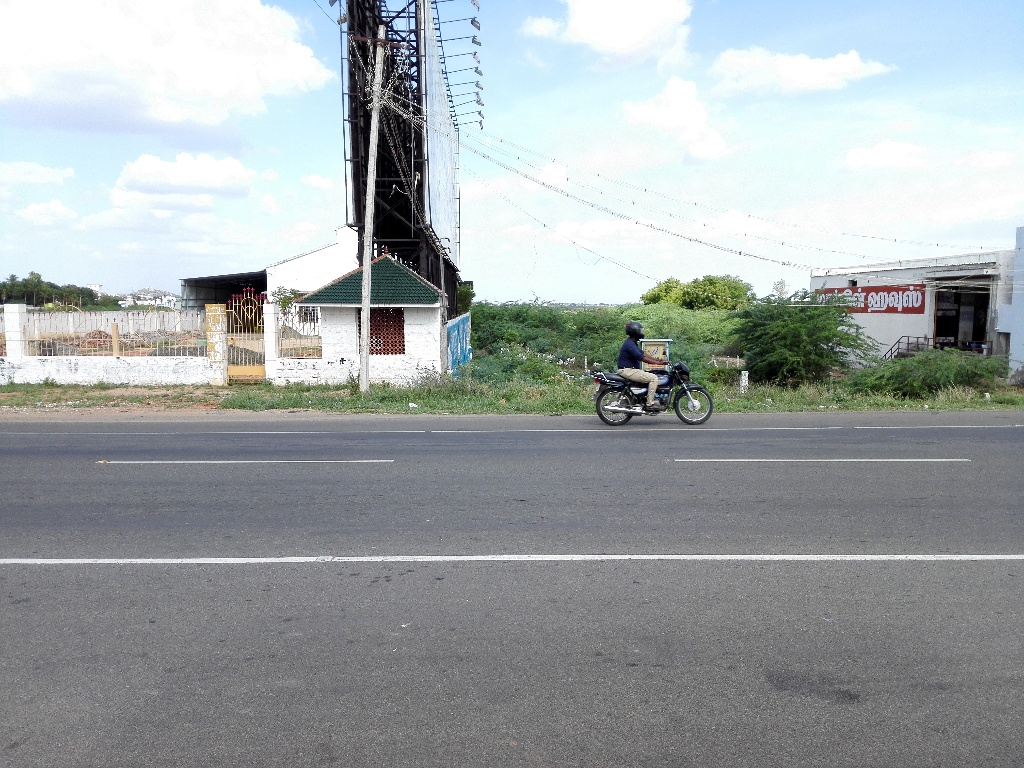biker: (573, 295, 728, 435)
helmet: (618, 316, 652, 348)
